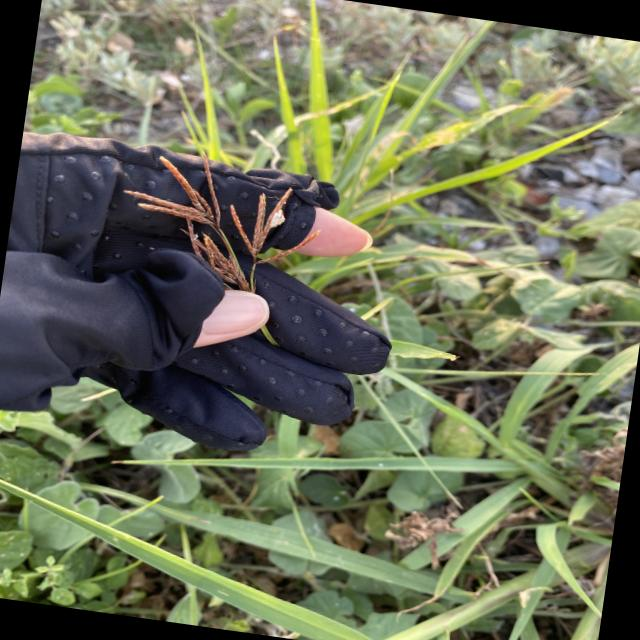cyperus: (116, 144, 331, 334)
